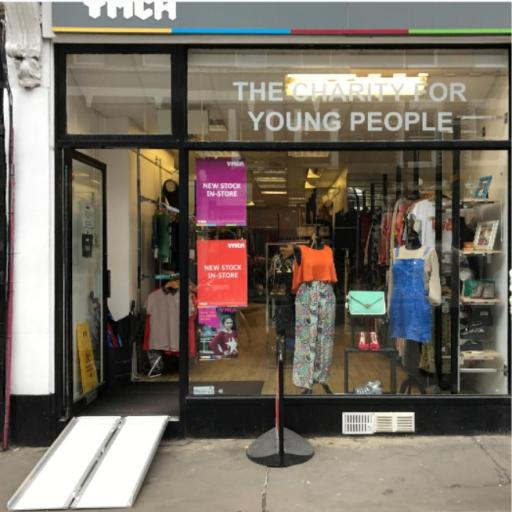child: (56, 140, 114, 412)
entrance: (8, 416, 168, 511)
